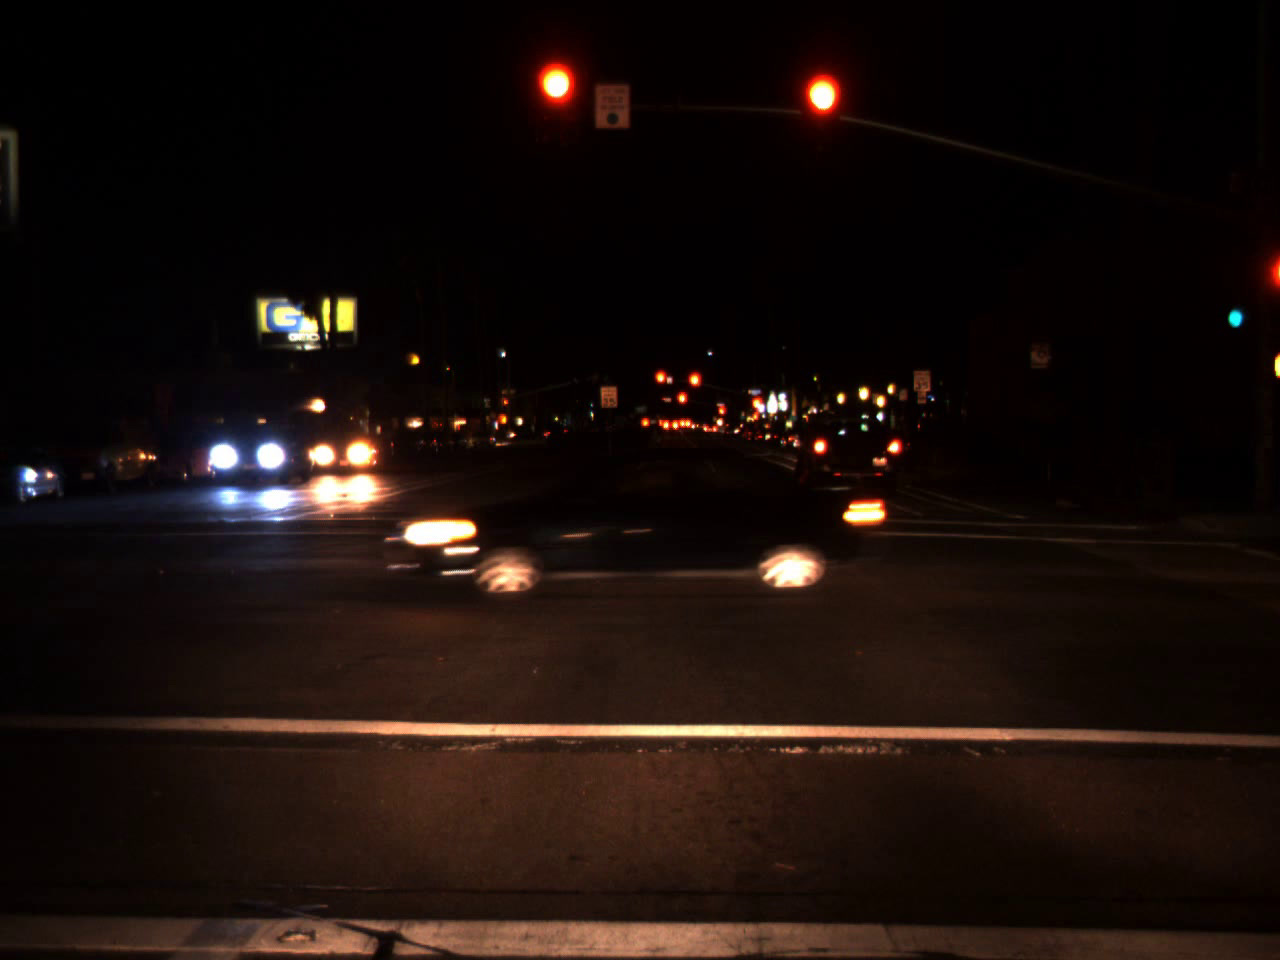stop: (537, 62, 577, 140), (801, 75, 840, 150), (686, 369, 702, 404), (653, 369, 669, 396), (675, 389, 688, 416), (750, 395, 763, 419), (717, 404, 724, 425), (503, 397, 509, 410)
